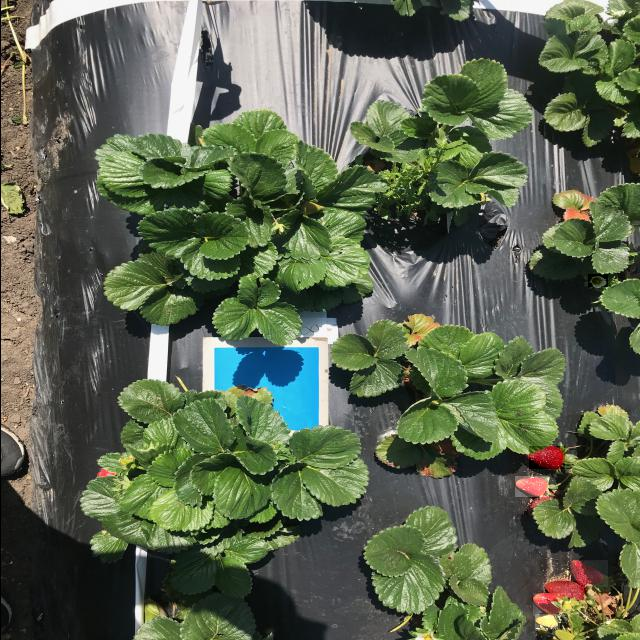partially-ripe: (586, 274, 607, 288), (412, 632, 438, 639)
ripe: (533, 614, 559, 630)
unripe: (568, 560, 607, 588), (531, 594, 570, 618), (543, 581, 586, 602), (527, 446, 564, 470), (513, 476, 548, 498), (97, 468, 115, 478)
